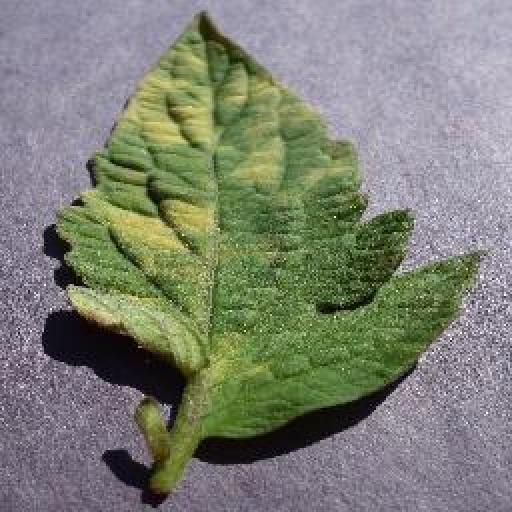Leaf Mold: (56, 10, 487, 438)
